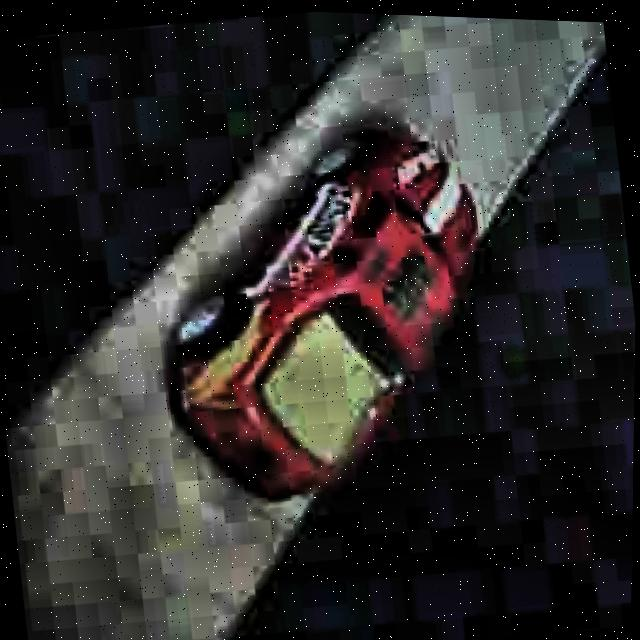car: (132, 107, 517, 523)
